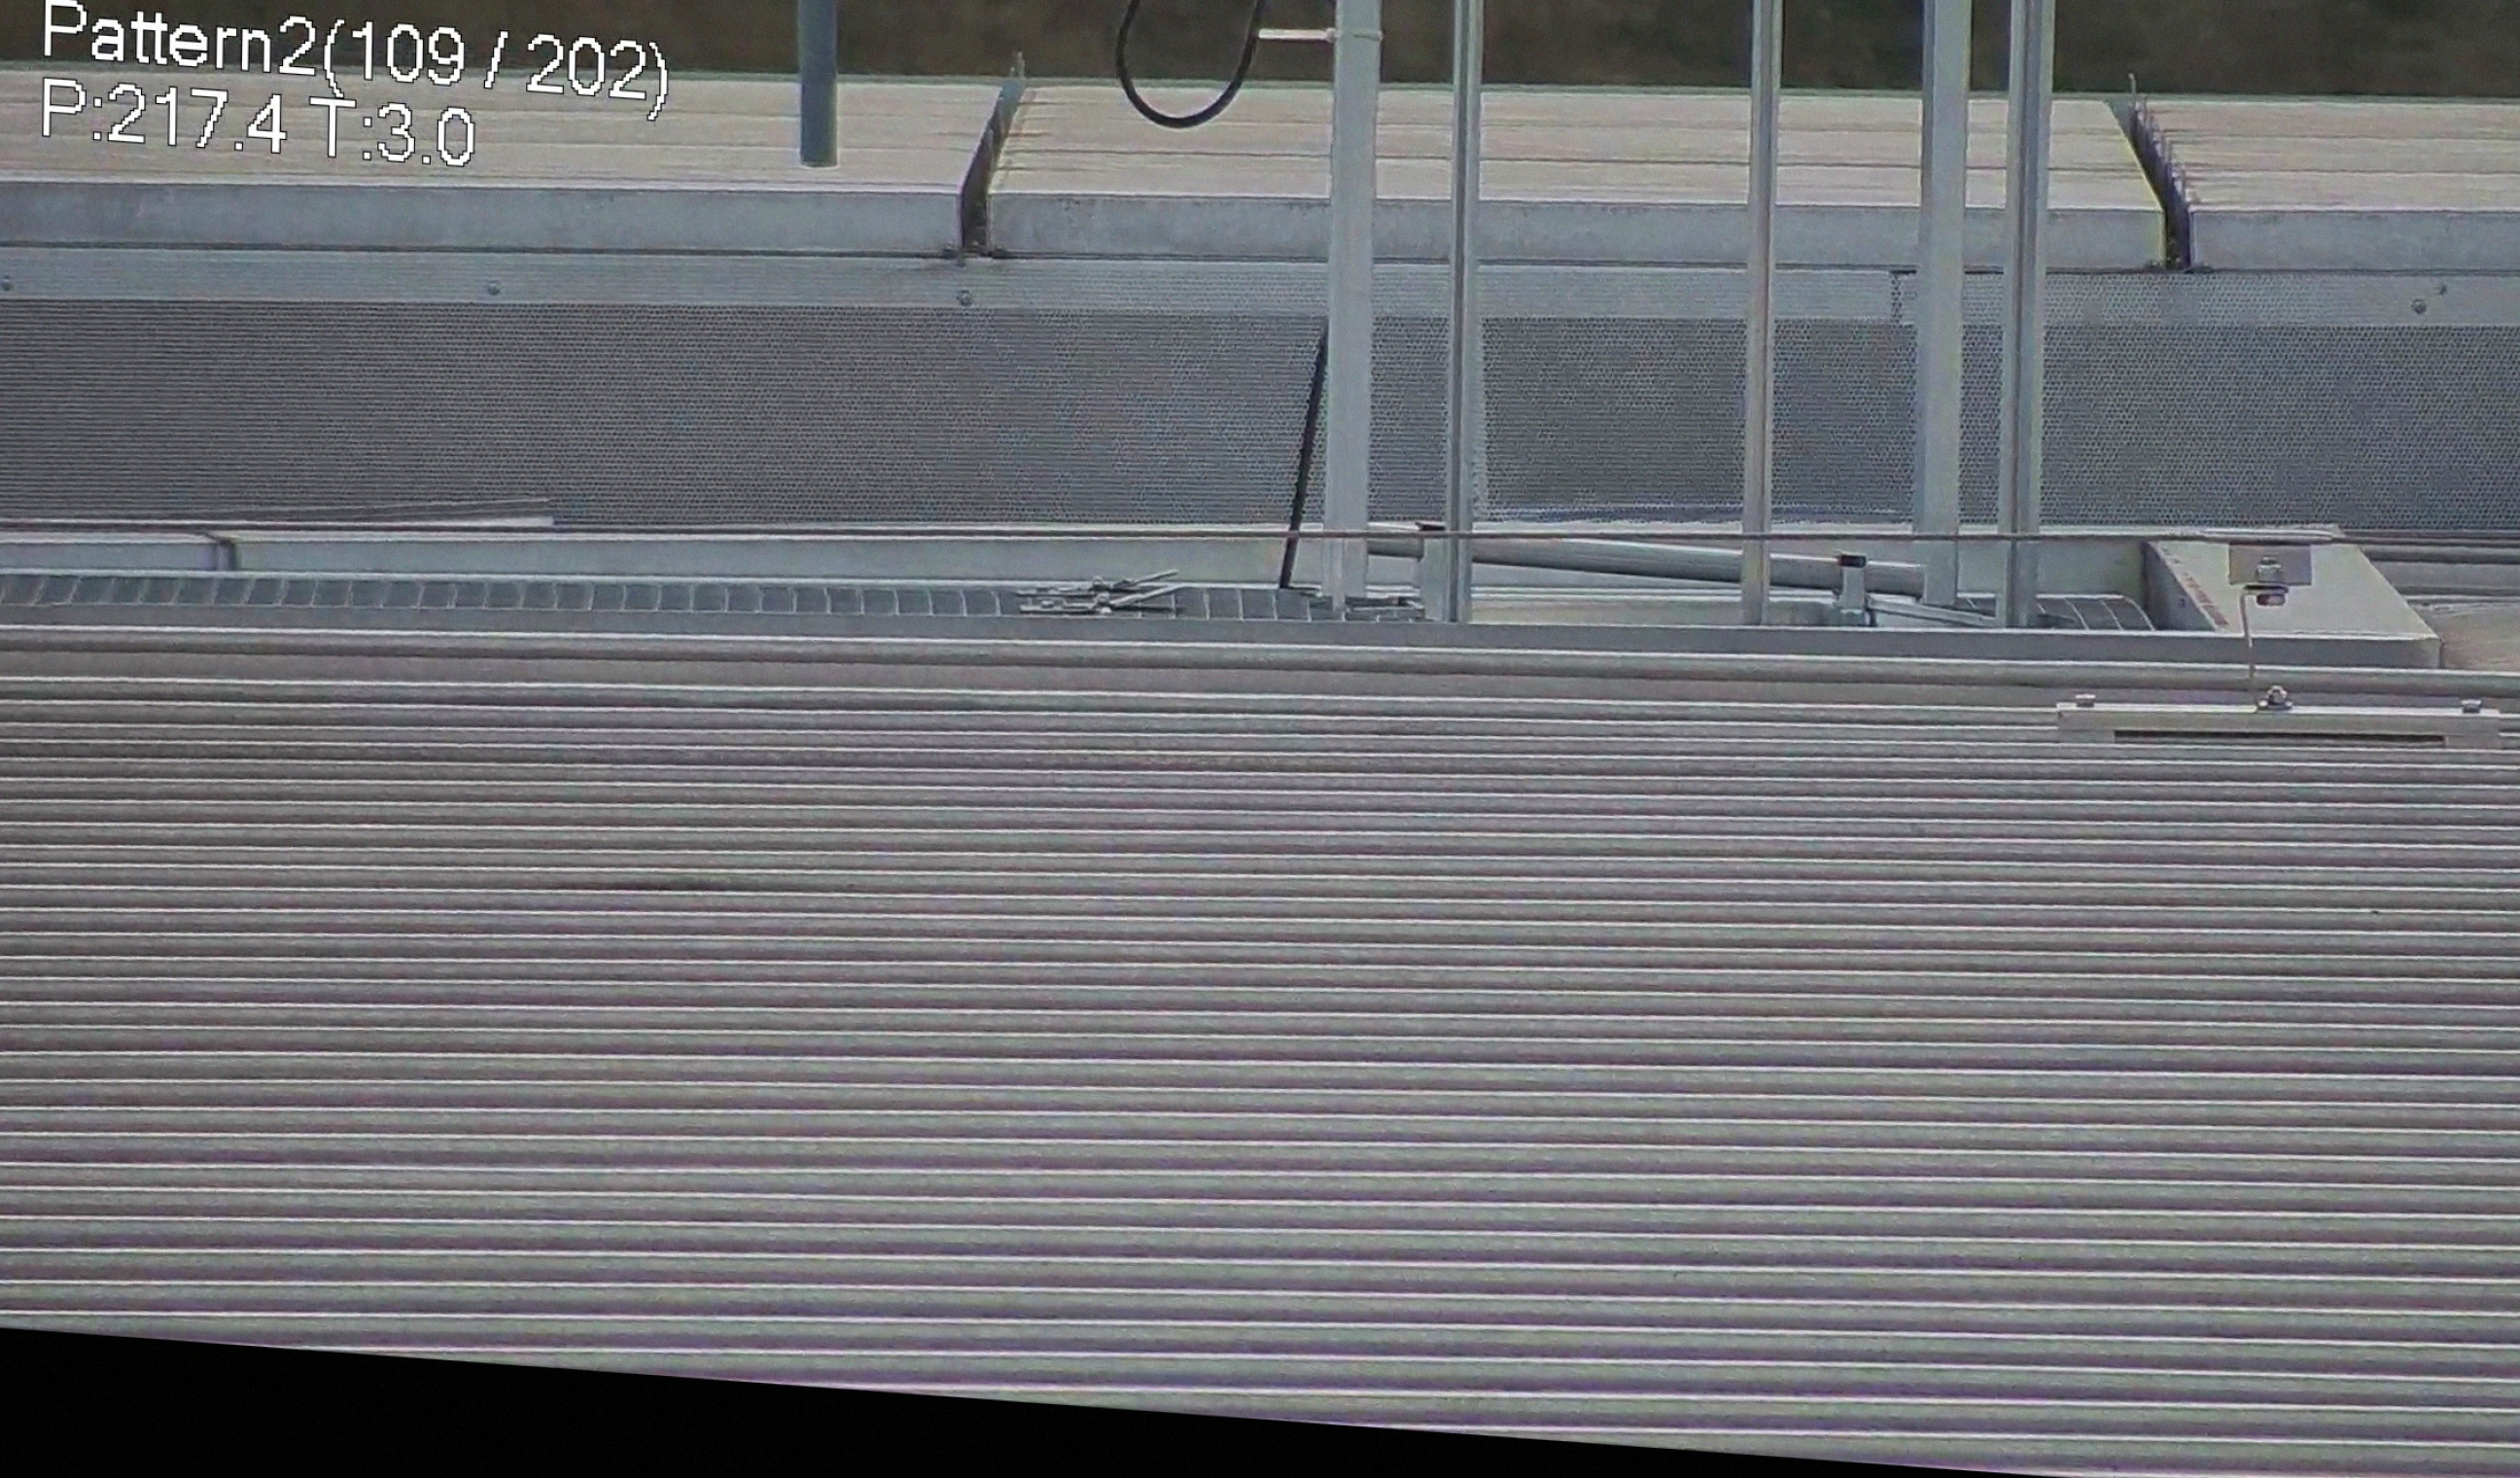Other: (2094, 67, 2228, 276)
